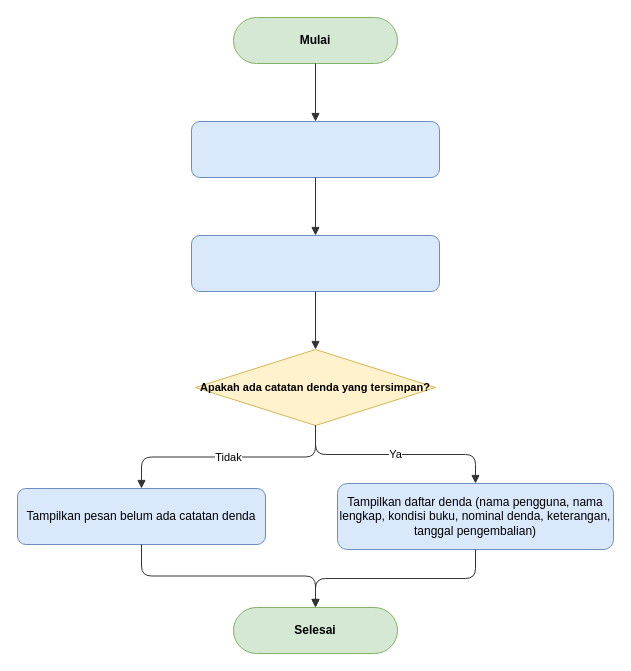
Some shapes in this 631 by 671 pixel diagram are drawn without their labels. The shapes that lost their labels are listed below. From the top down, each one's box as (x1, y1, x2, y2) in pixels, then its label:
(190, 120, 440, 178): Masuk sebagai Admin
(190, 234, 440, 292): Buka menu daftar denda
